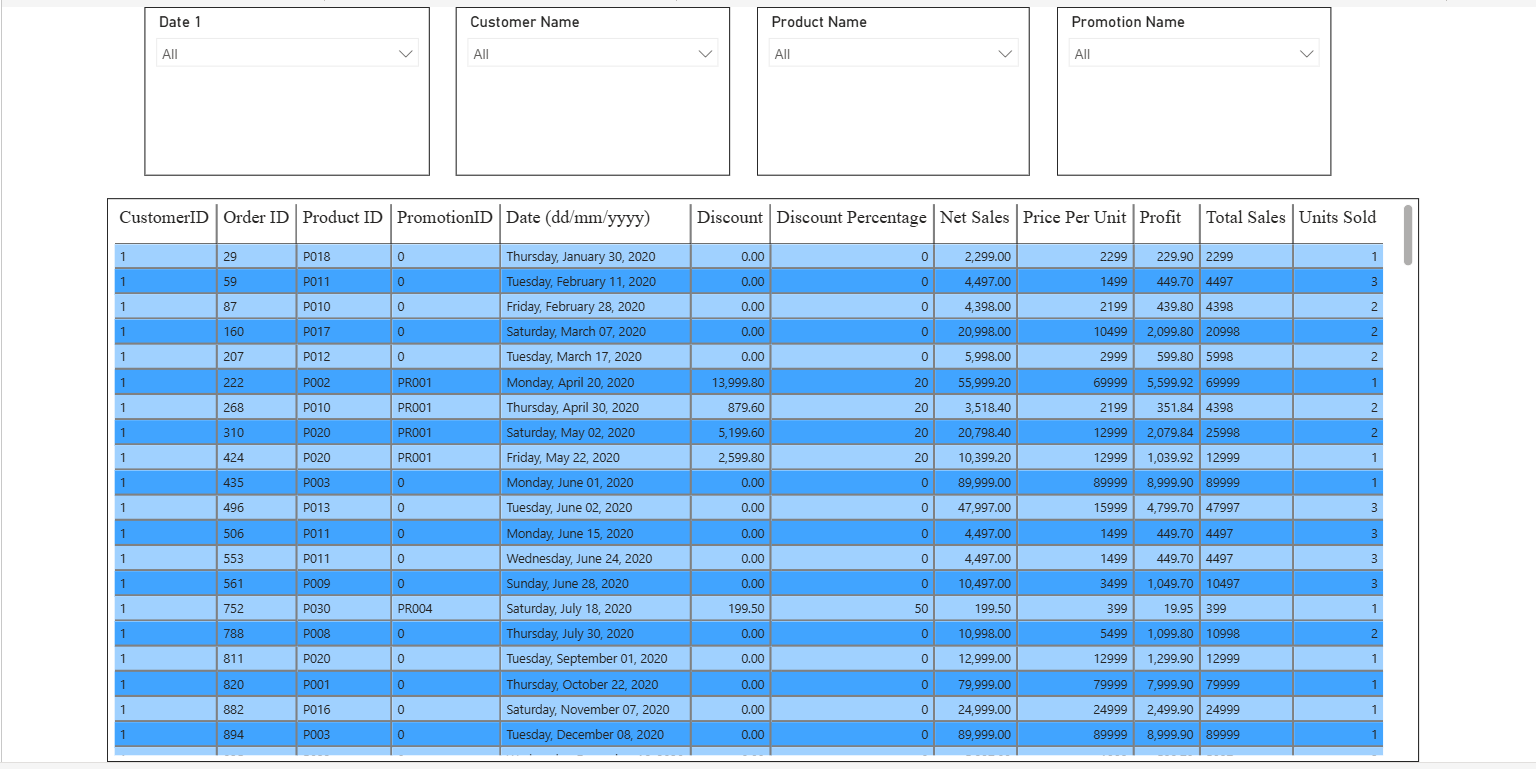

This screenshot's page, from the dashboard's own definition file:
{"tool":"powerbi","page":{"name":"Table Visual","canvas":[1280,720],"ordinal":4},"visuals":[{"type":"tableEx","fields":{"Values":["Fact Table.CustomerID","Fact Table.Order ID","Fact Table.Product ID","Fact Table.PromotionID","Fact Table.Date (dd/mm/yyyy)","Fact Table.Discount","Fact Table.Discount Percentage","Fact Table.Net Sales","Fact Table.Price Per Unit","Fact Table.Profit","Fact Table.Total Sales","Fact Table.Units Sold"]},"box":[0,182.8,1251.5,537.4],"z":0},{"type":"slicer","fields":{"Values":["Date Table 1.Date"]},"box":[35.6,0,272.4,160.7],"z":1000},{"type":"slicer","fields":{"Values":["Dim Customers.Customer Name"]},"box":[332.5,0,261.4,160.7],"z":2000},{"type":"slicer","fields":{"Values":["Dim Product.Product Name"]},"box":[619.6,0,260.1,160.7],"z":3000},{"type":"slicer","fields":{"Values":["Dim Promotion.Promotion Name"]},"box":[905.5,0,261.4,160.7],"z":4000}]}

Visuals, with their boxes on the page's 1280x720 design canvas (x1, y1, x2, y2). These are canvas units, not pixel positions in the 1536x769 screenshot, which may show the page scaled, cropped or inside an application window:
tableEx - Fact Table.CustomerID x Fact Table.Order ID: {"left": 0, "top": 183, "right": 1252, "bottom": 720}
slicer - Date Table 1.Date: {"left": 36, "top": 0, "right": 308, "bottom": 161}
slicer - Dim Customers.Customer Name: {"left": 332, "top": 0, "right": 594, "bottom": 161}
slicer - Dim Product.Product Name: {"left": 620, "top": 0, "right": 880, "bottom": 161}
slicer - Dim Promotion.Promotion Name: {"left": 906, "top": 0, "right": 1167, "bottom": 161}
